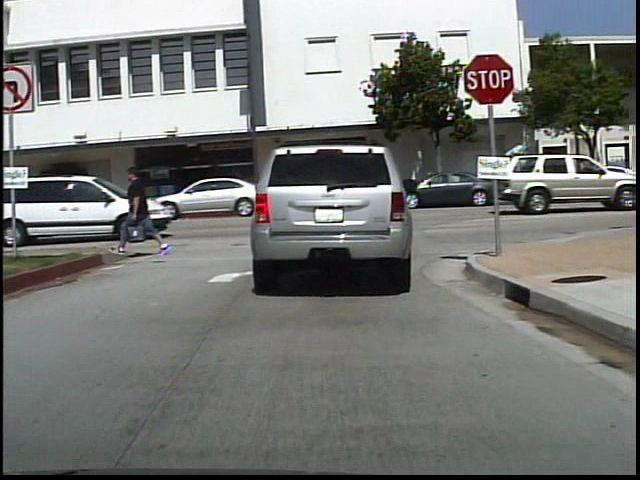person: (116, 161, 172, 258), (50, 173, 73, 218), (76, 174, 99, 219)
